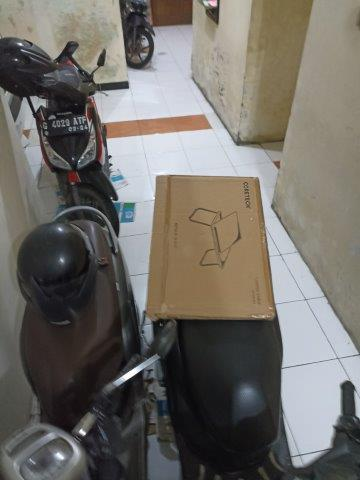kardus: (147, 177, 273, 319)
